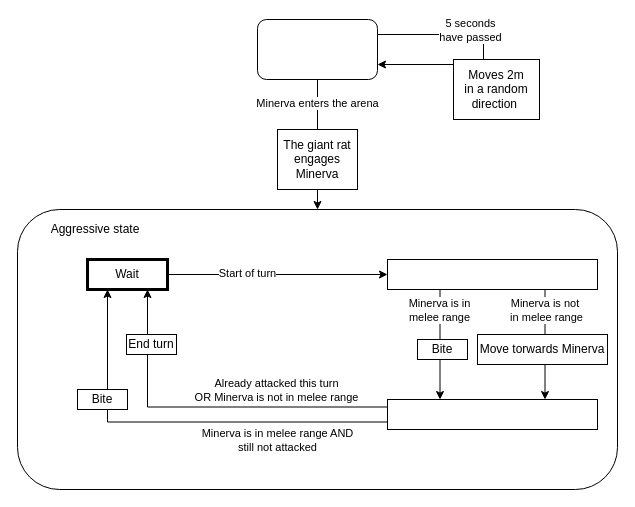
The diagram is 635 pixels wide and 507 high, and some of its shapes have lost their labels. The centre of each missing label's shape, as x and y in pixels:
First action: (492,274)
Idle: (317,49)
Second action: (492,414)
